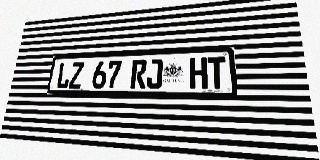6: (91, 61, 108, 89)
7: (105, 60, 122, 89)
H: (190, 57, 207, 89)
J: (146, 59, 163, 89)
L: (56, 62, 72, 89)
R: (130, 59, 147, 89)
T: (207, 57, 227, 89)
Z: (68, 62, 84, 89)
